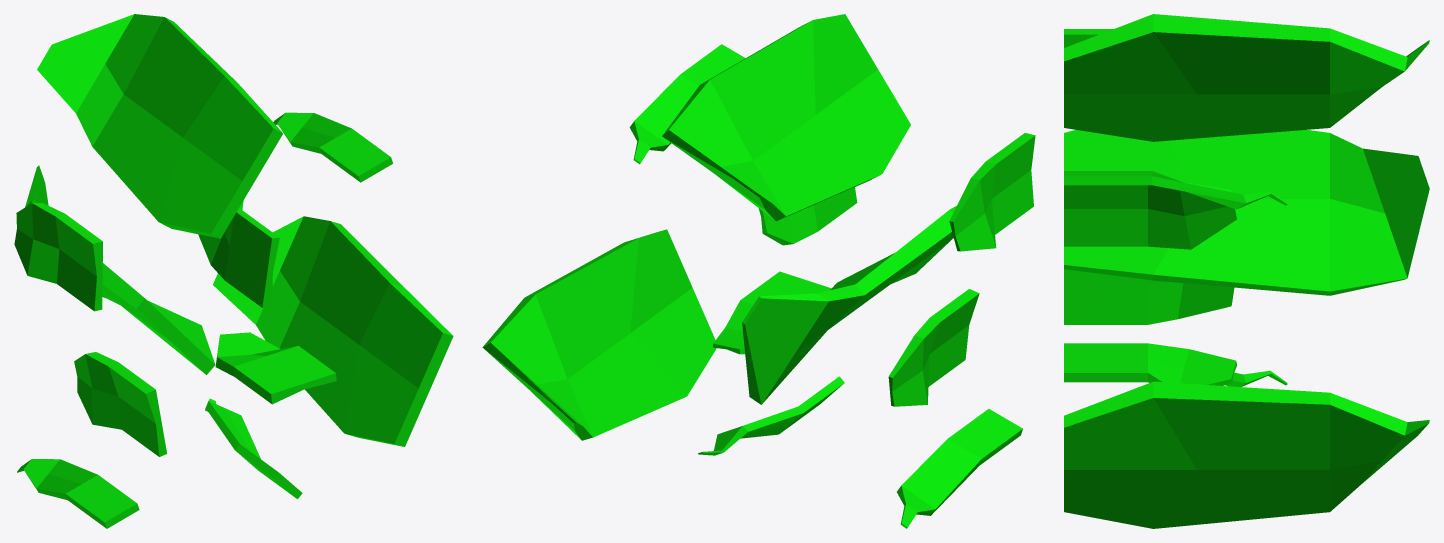
The model's file is grass.fbx.
The picture shows the model from 3 angles, left to right: view 1: azimuth 30°, elevation 25°; view 2: azimuth 150°, elevation 25°; view 3: azimuth 270°, elevation 25°; orthographic projection. The views are drawn at different scales.
Visible parts, largest first — view 1: Grass; view 2: Grass; view 3: Grass.
Boxes of the visible parts, bbox=[...] form: Grass: bbox=[14, 14, 453, 528]; Grass: bbox=[482, 14, 1035, 528]; Grass: bbox=[1064, 14, 1429, 528].
Bounding box in the file's own units: 188 × 189 × 137.
